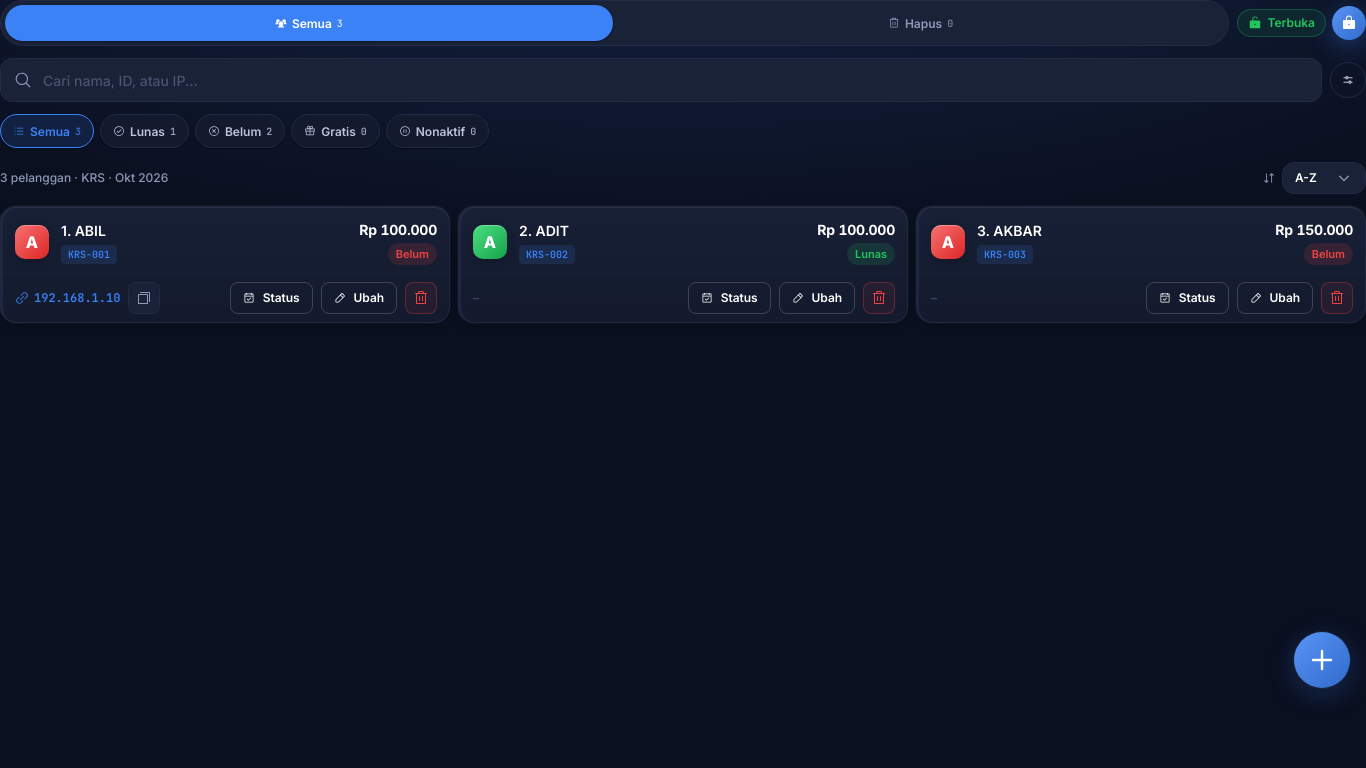
T13-02 FAB di layar › Member: mengetuk FAB membuka sheet Tambah Member
What coordinates should you click on to do the following:
click the button named "Tambah Member"
I would click on:
 (1322, 660)
Its box is [1294,632,1350,688].
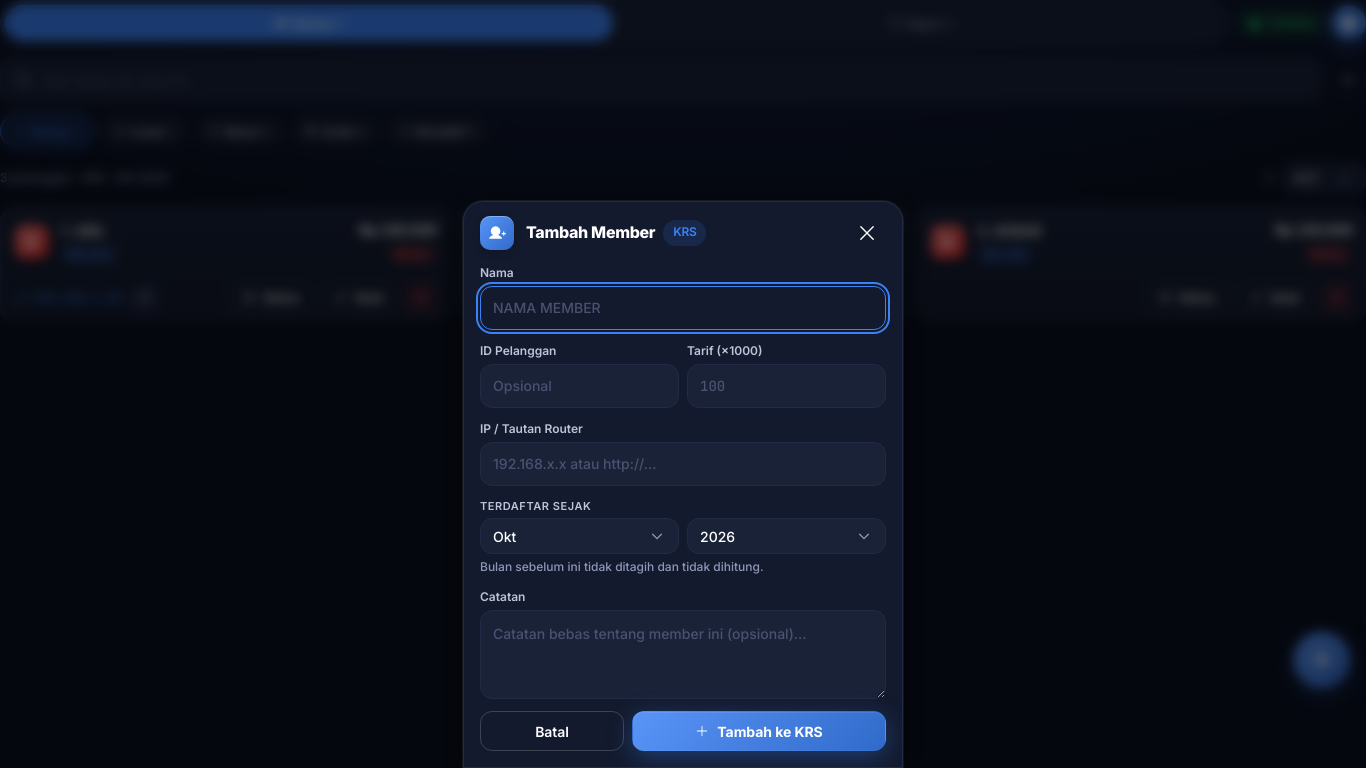
Now the dialog is shown, box [463,200,903,767]
